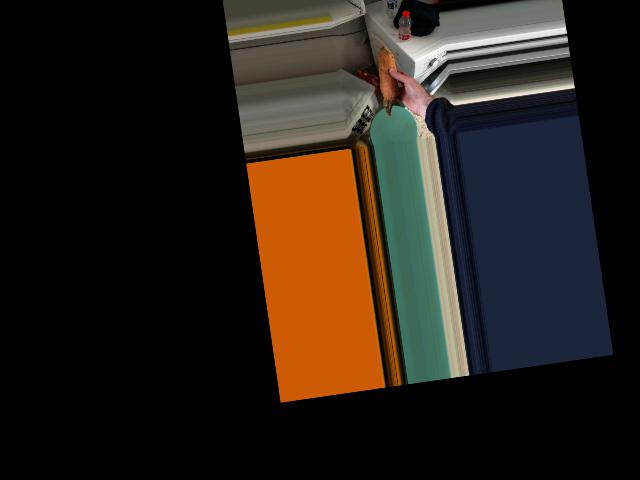sweet_potato: (376, 52, 407, 115)
